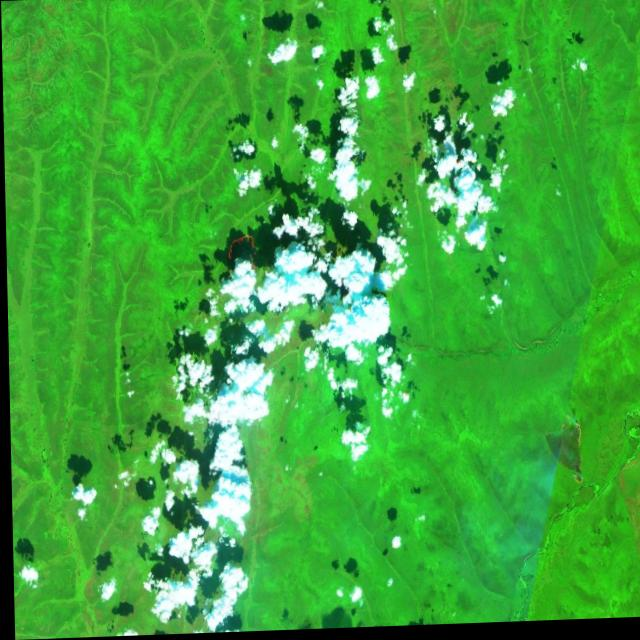fire: (551, 415, 590, 495), (224, 229, 255, 278)
